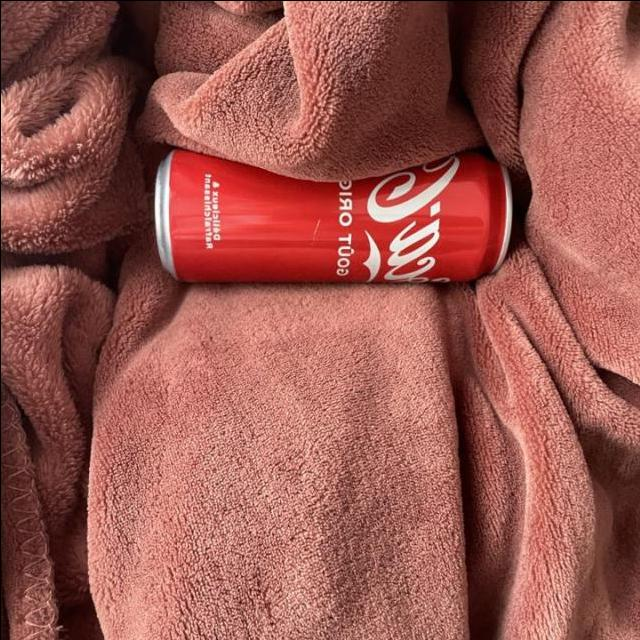can: (153, 148, 512, 288)
